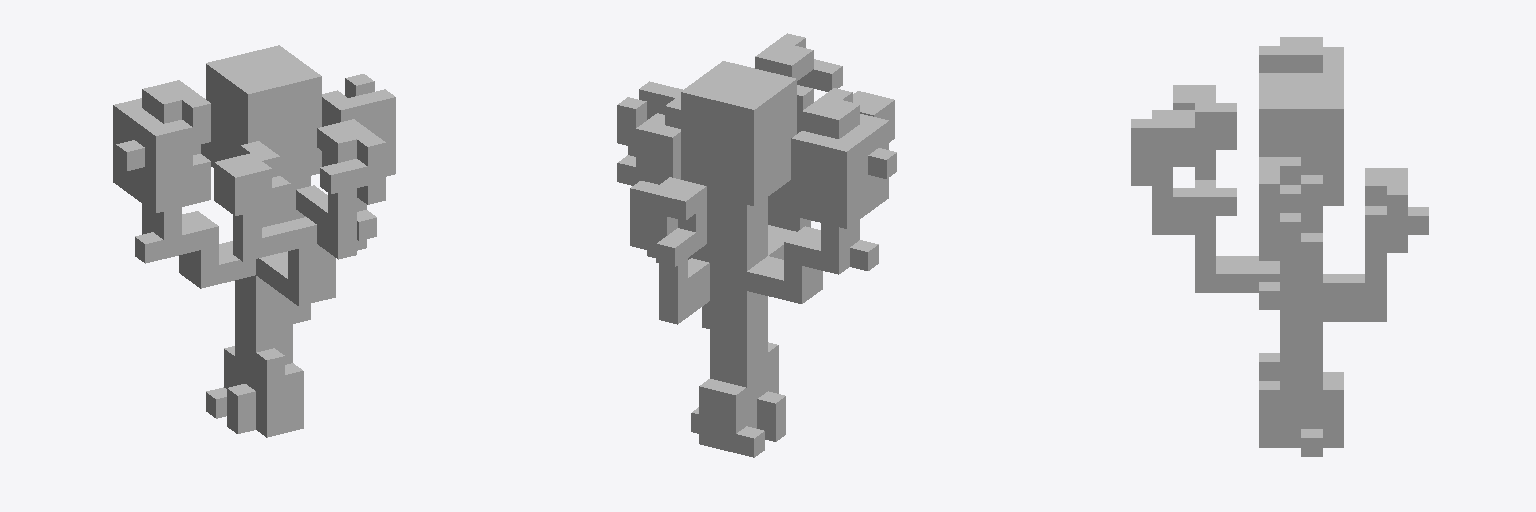
The model's file is tree-1.obj.
3 views of the same model, side by side, from view 1: azimuth 30°, elevation 25°; view 2: azimuth 150°, elevation 25°; view 3: azimuth 270°, elevation 25° (orthographic).
Visible parts, largest first — view 1: moreTrees; view 2: moreTrees; view 3: moreTrees.
Boxes of the visible parts, x1,y1,x2,y2 form: moreTrees: [113, 45, 395, 437]; moreTrees: [617, 33, 896, 457]; moreTrees: [1131, 37, 1428, 456].
Bounding box in the file's own units: 1.4 × 1.8 × 1.4.